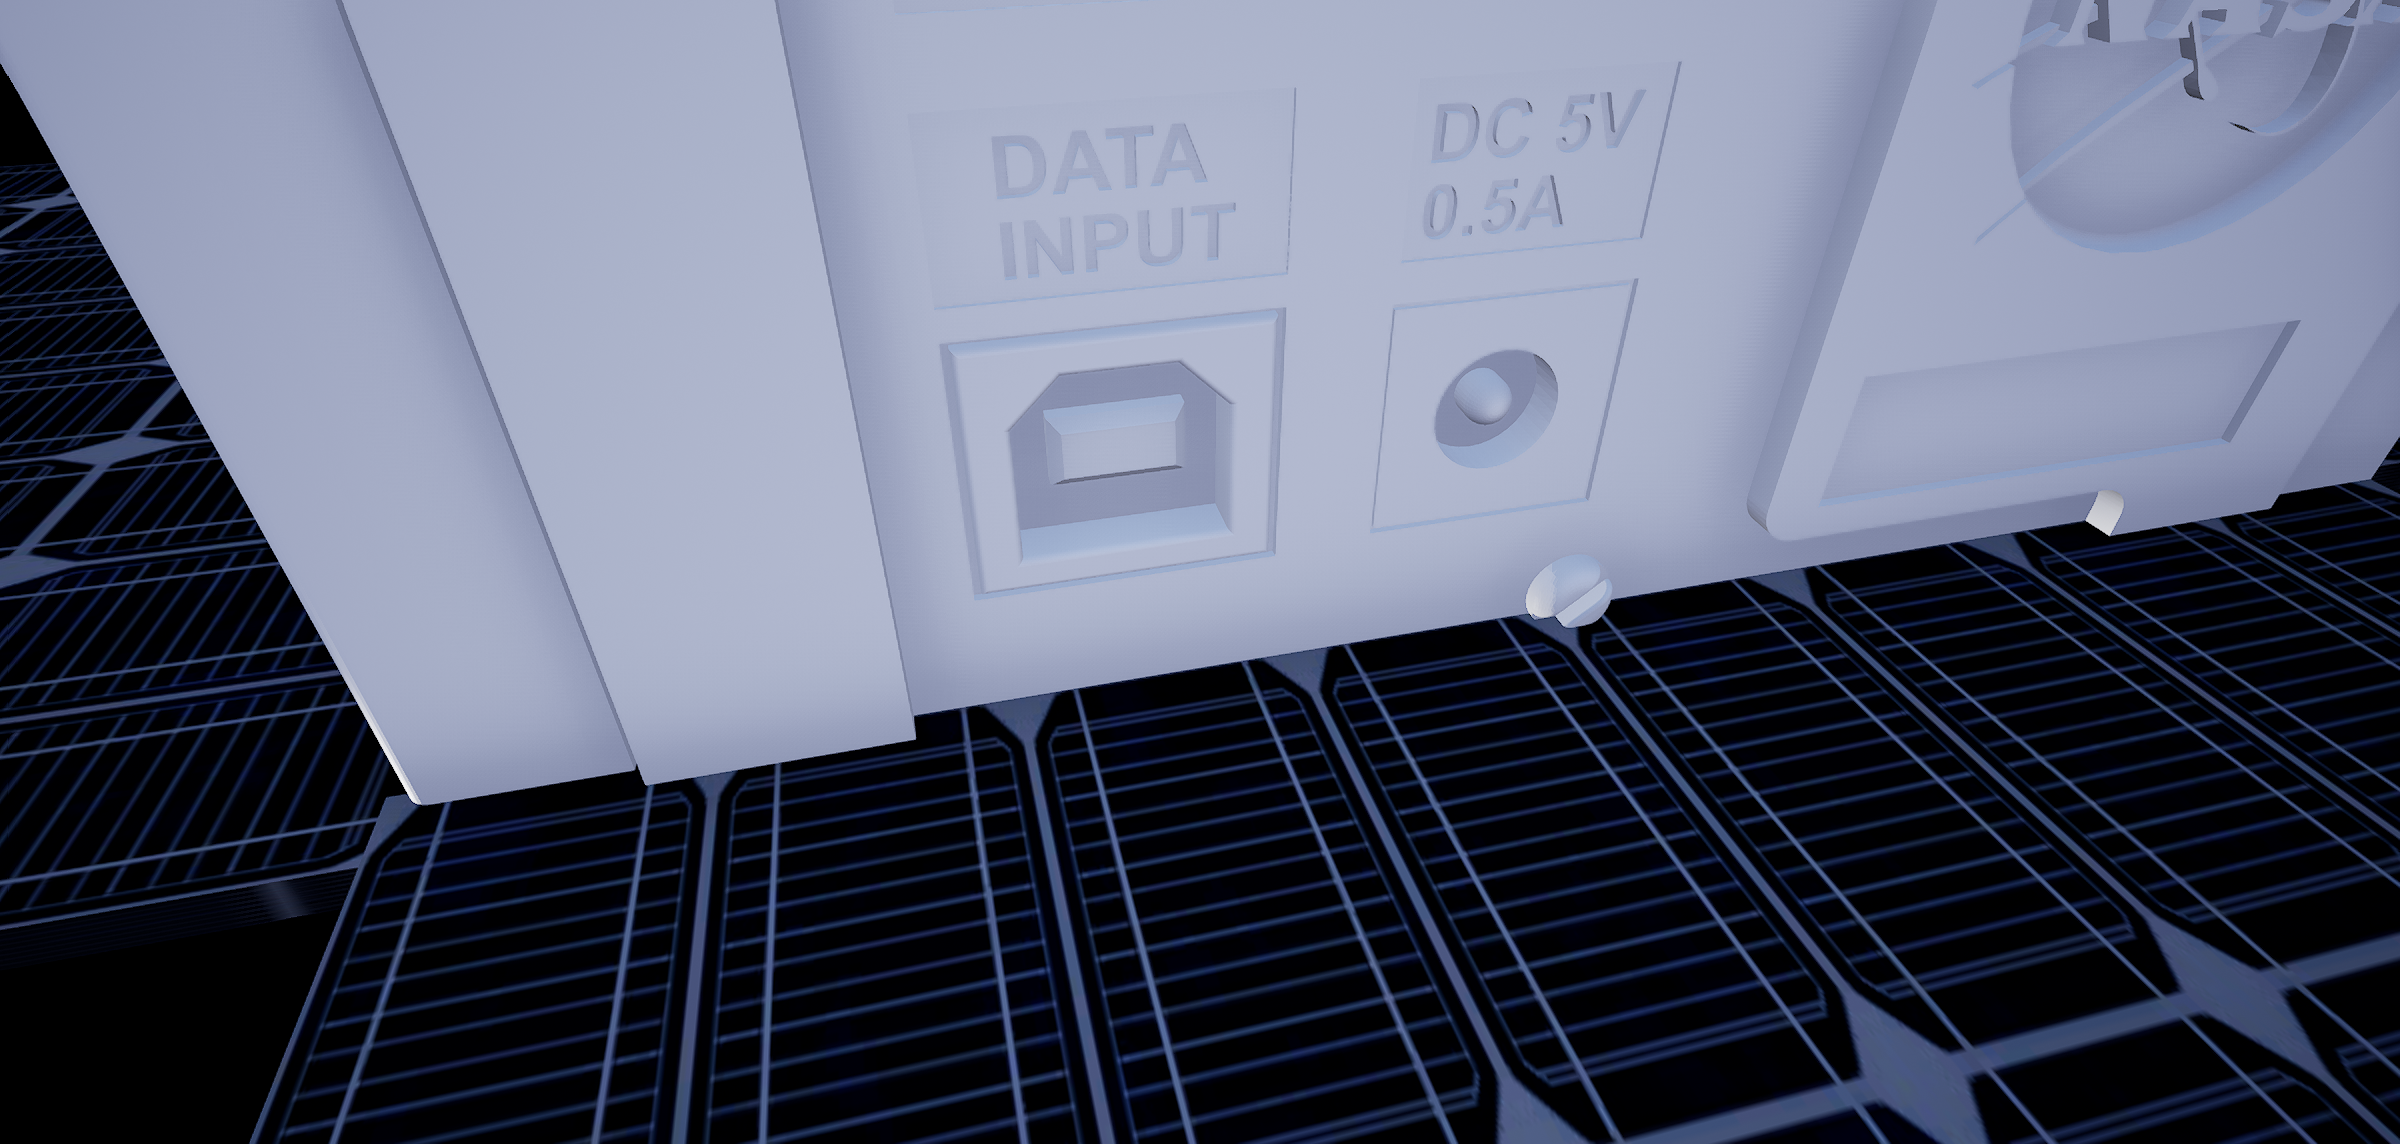dc: (1417, 329, 1573, 478)
usb: (999, 358, 1247, 557)
